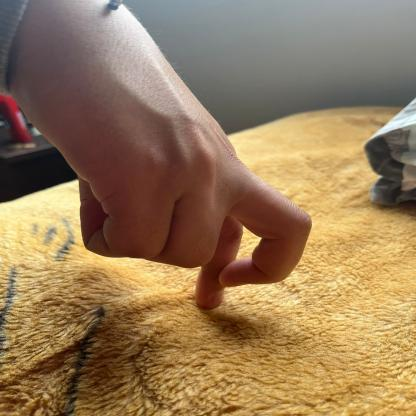P: (14, 1, 319, 319)
